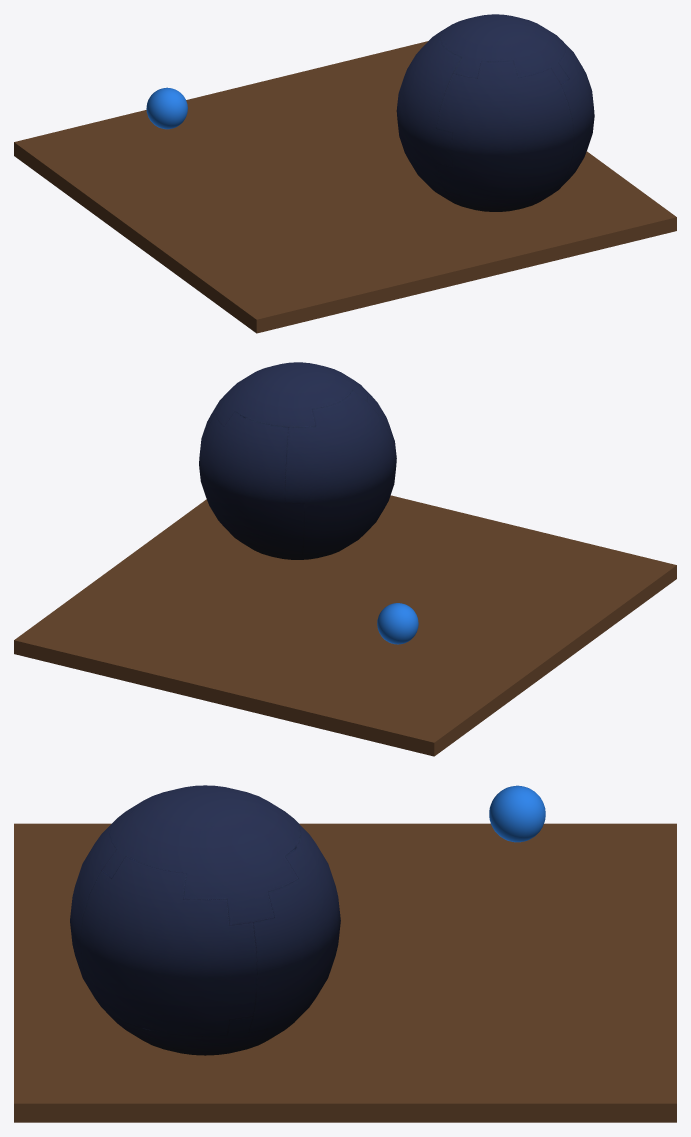
Rendered from blenderFile.glb.
The picture shows the model from 3 angles, top to bottom: view 1: azimuth 30°, elevation 25°; view 2: azimuth 150°, elevation 25°; view 3: azimuth 270°, elevation 25°; orthographic projection. The views are drawn at different scales.
Visible parts, largest first — view 1: Cube, Sphere.001, Sphere; view 2: Cube, Sphere.001, Sphere; view 3: Cube, Sphere.001, Sphere.
Boxes of the visible parts, x1,y1,x2,y2 form: Cube: (14,41,676,333); Sphere.001: (396,14,594,211); Sphere: (146,87,187,129); Cube: (14,495,676,756); Sphere.001: (199,362,396,559); Sphere: (377,603,418,644); Cube: (14,823,676,1122); Sphere.001: (70,785,340,1055); Sphere: (489,785,545,842).
Size of the model in its own units: 2 by 0.8335 by 2.
Materials: 3 (1 with a texture image).
